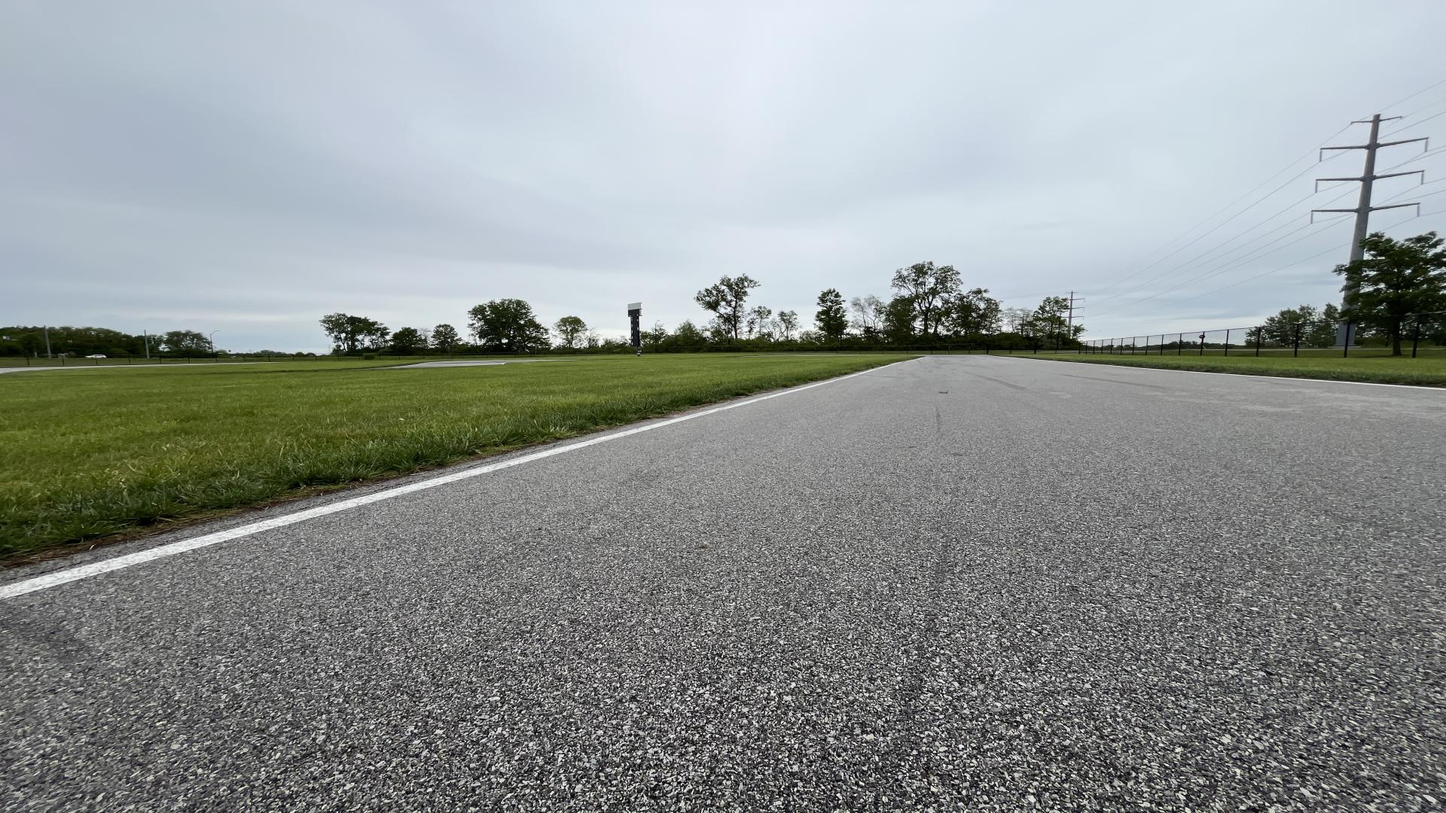white-line: (0, 358, 925, 599), (1008, 358, 1445, 391)
